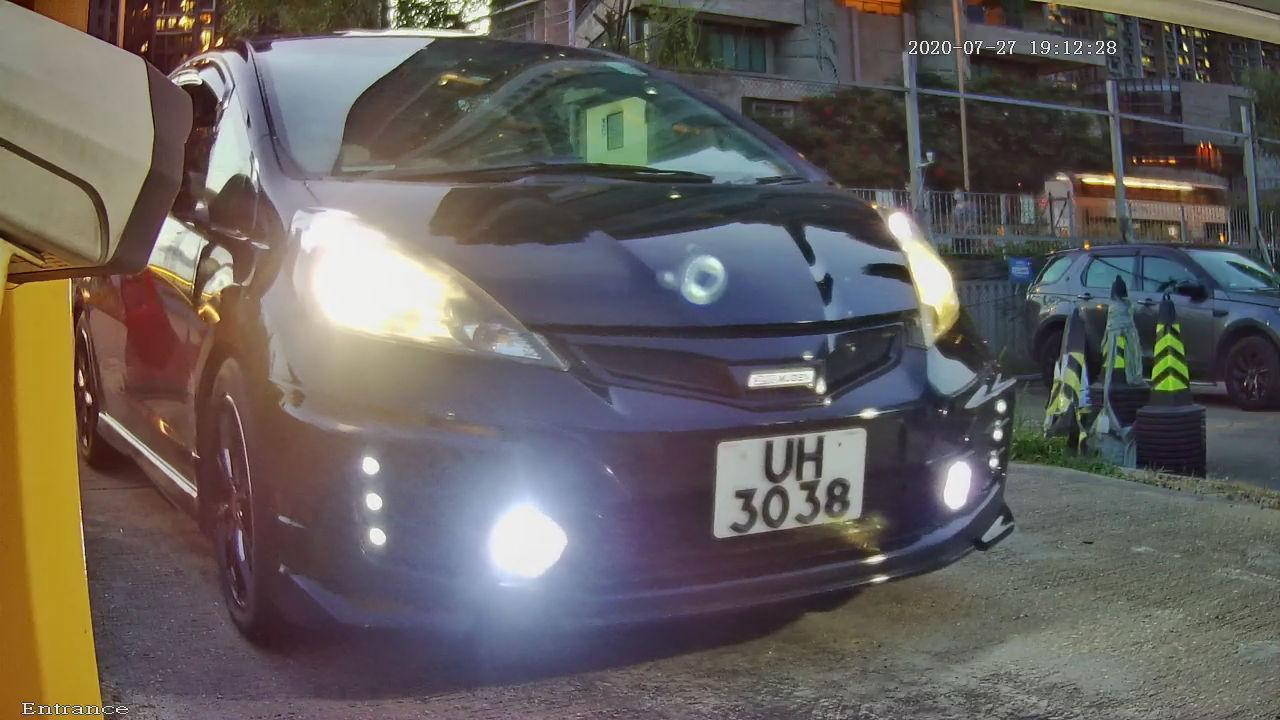privatecar: (121, 10, 1041, 688)
